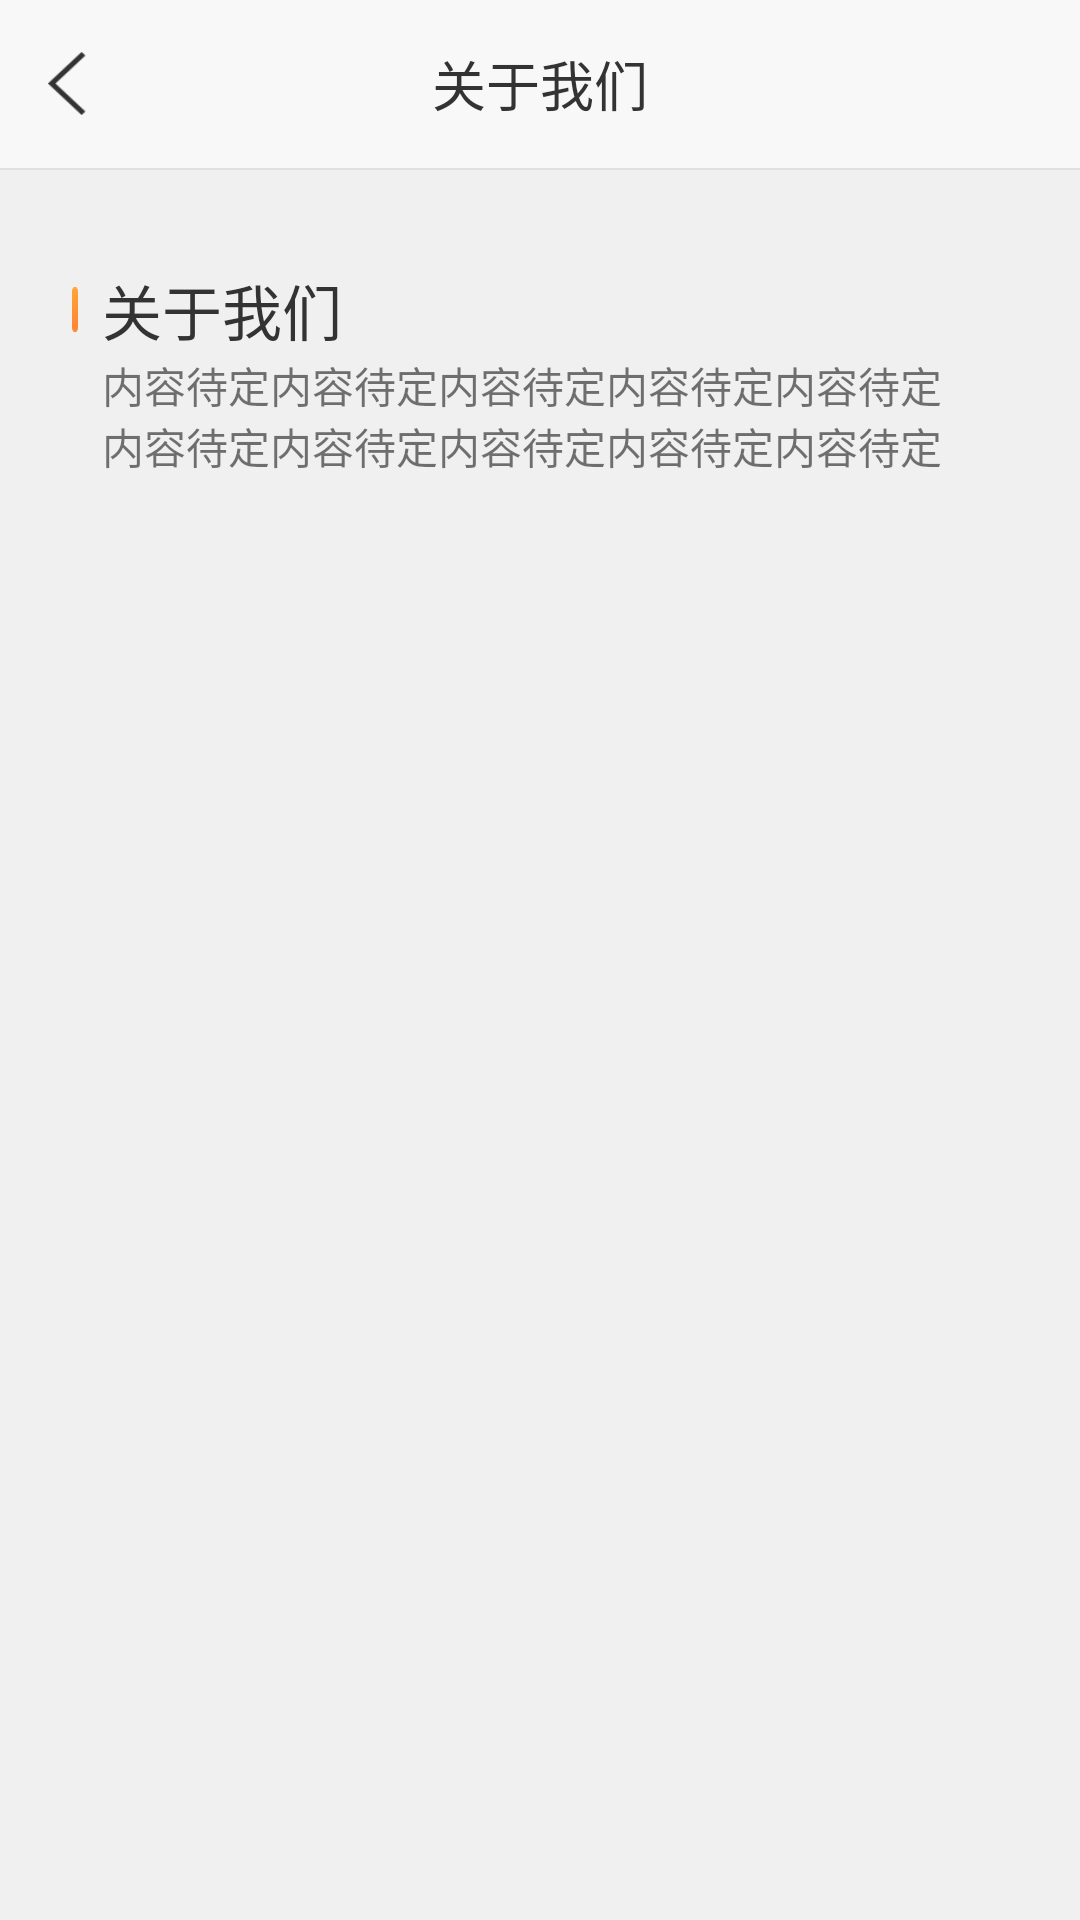

Named icons in this screenshot (1080*1920) and their centers, (x,y):
back: (67,83)
